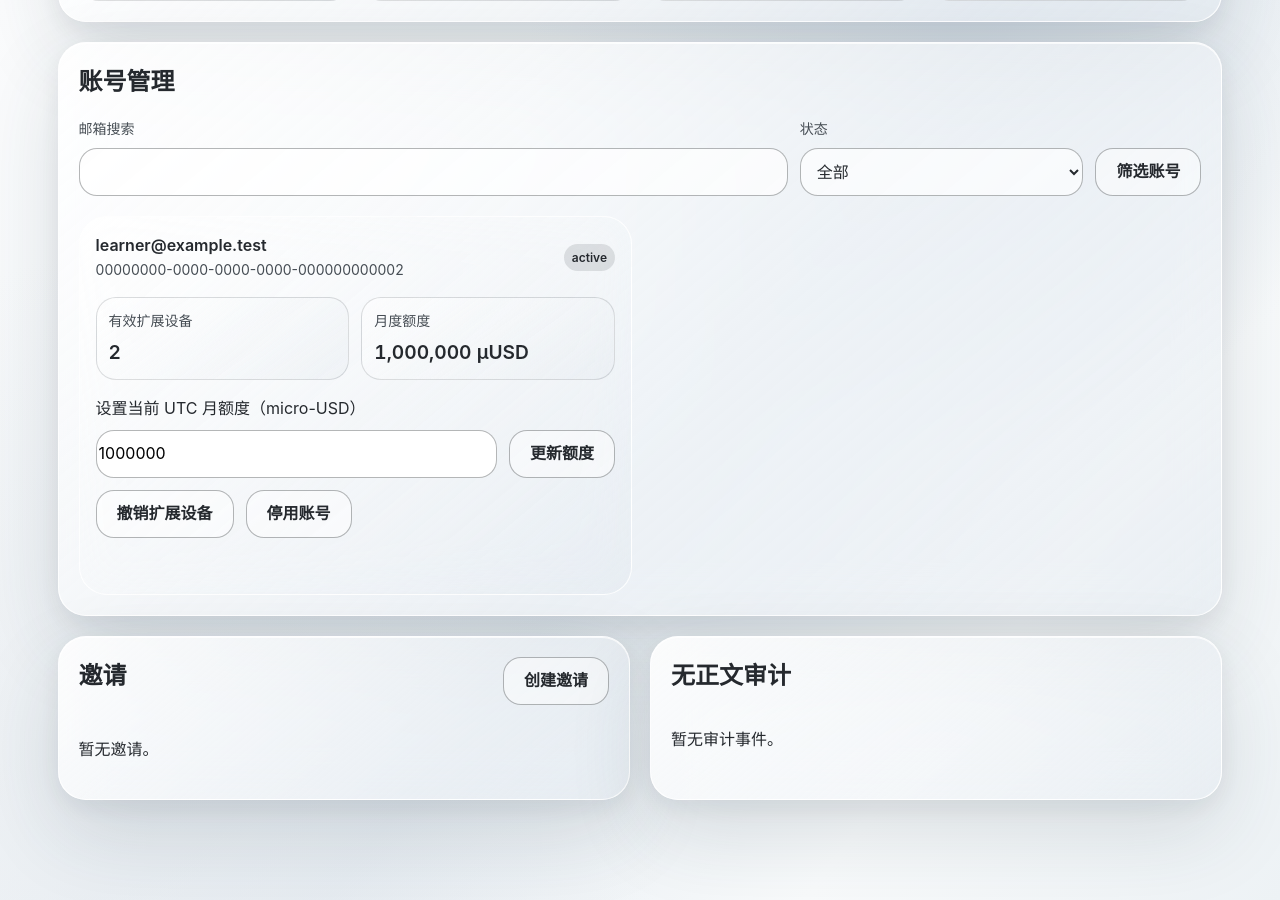
Test: Admin operations page › uses explicit confirmation for account disable and updates from the strict response
(page scrolled)
Click the button "停用账号": (299, 514) 246,490 -> 352,538
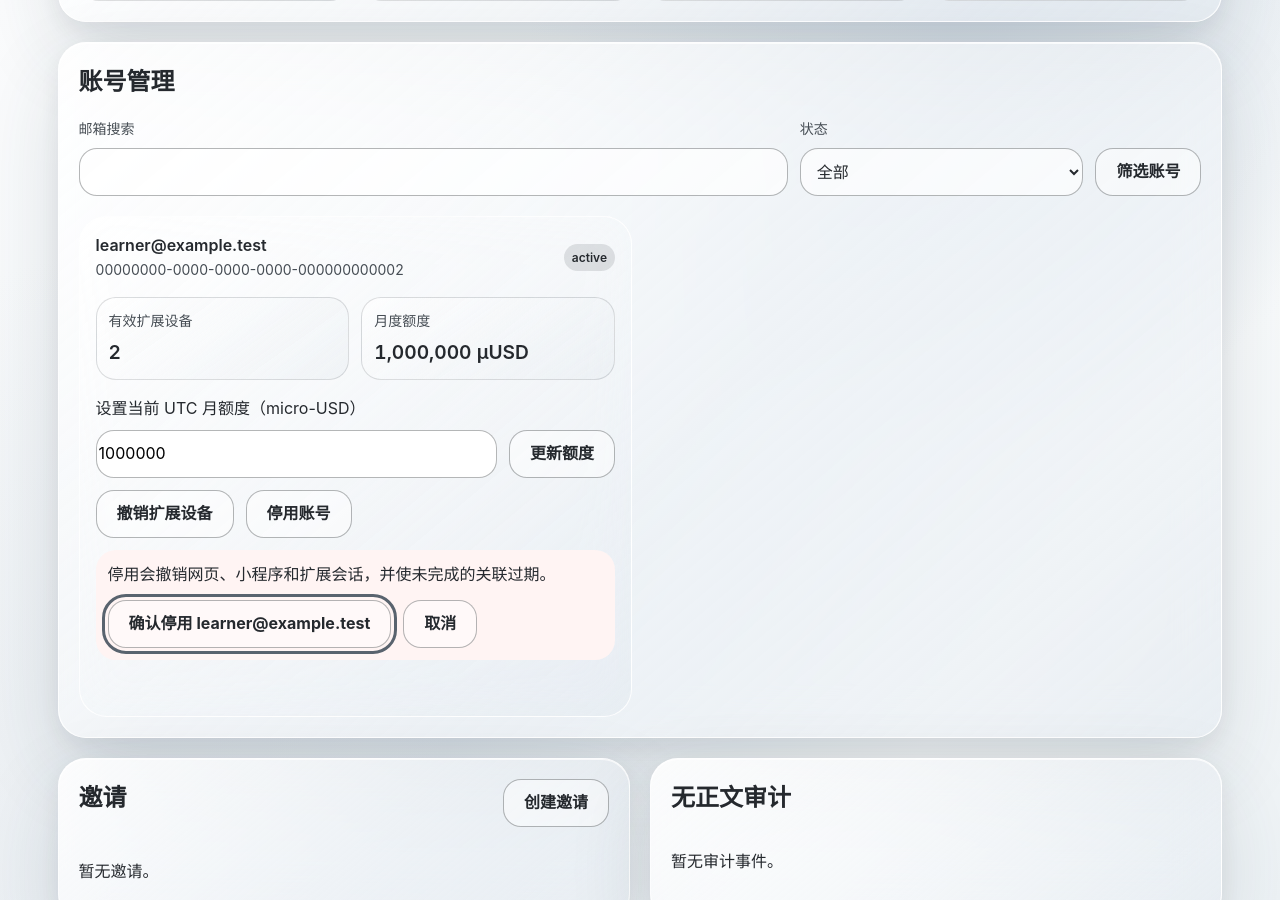
Click the button "确认停用 learner@example.test": (249, 624) 108,600 -> 391,648
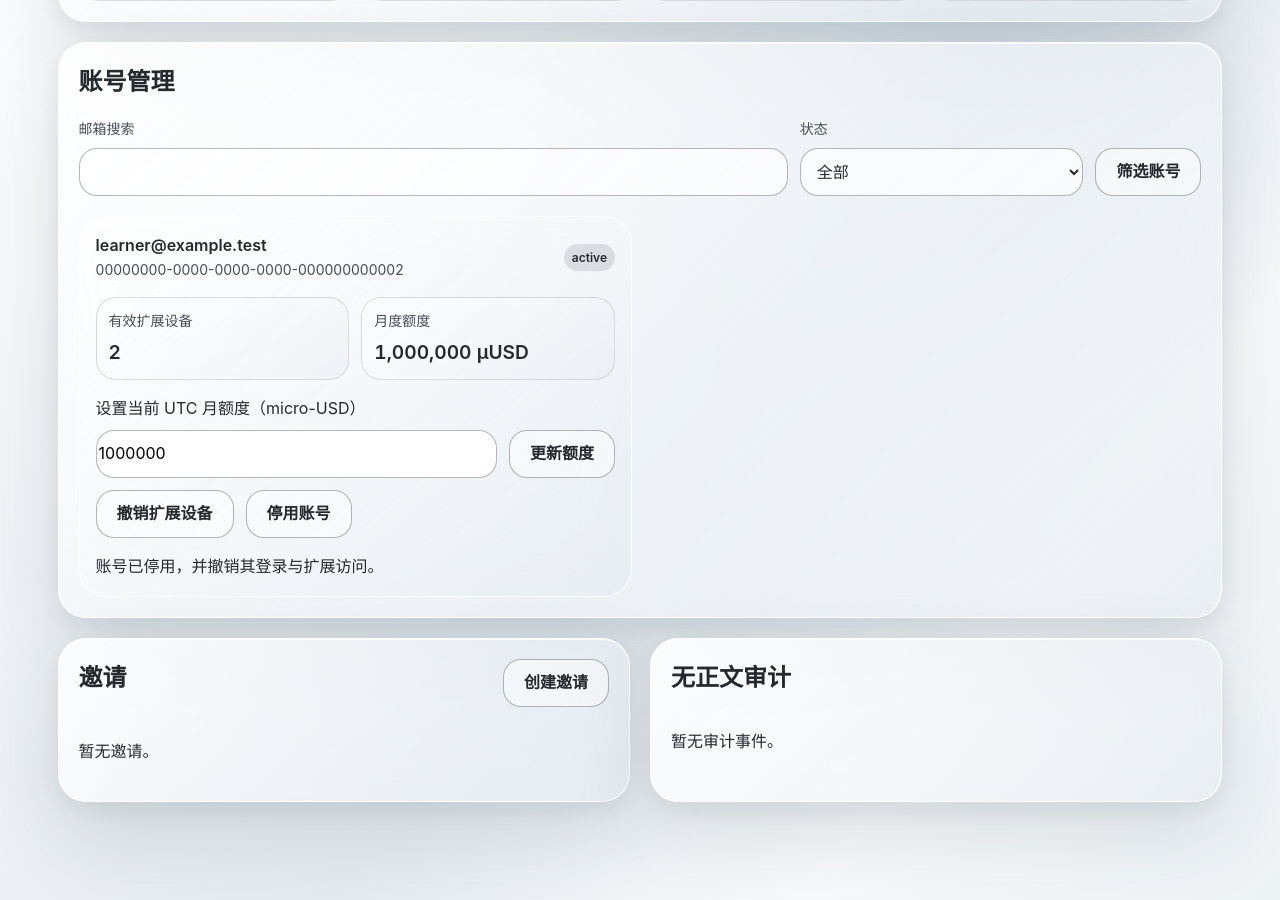
expect the text "账号已停用，并撤销其登录与扩展访问。" is shown: met, box 96,556 -> 384,576
